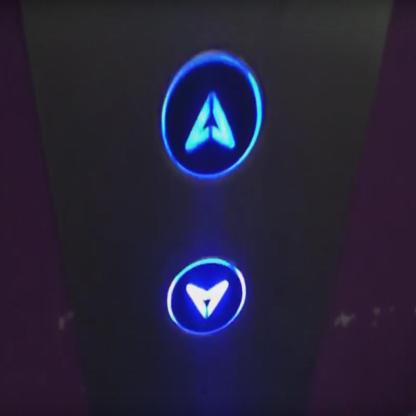down: (163, 251, 248, 341)
up: (160, 46, 263, 182)
